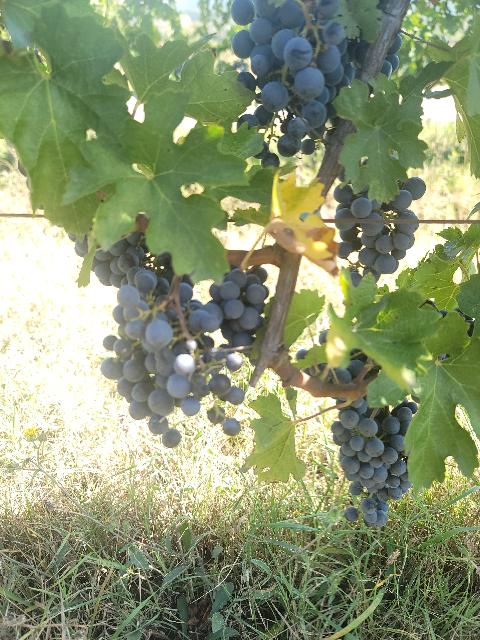grapes: (101, 285, 245, 448), (231, 0, 350, 156), (331, 399, 412, 528), (334, 178, 425, 281), (210, 269, 269, 348)
